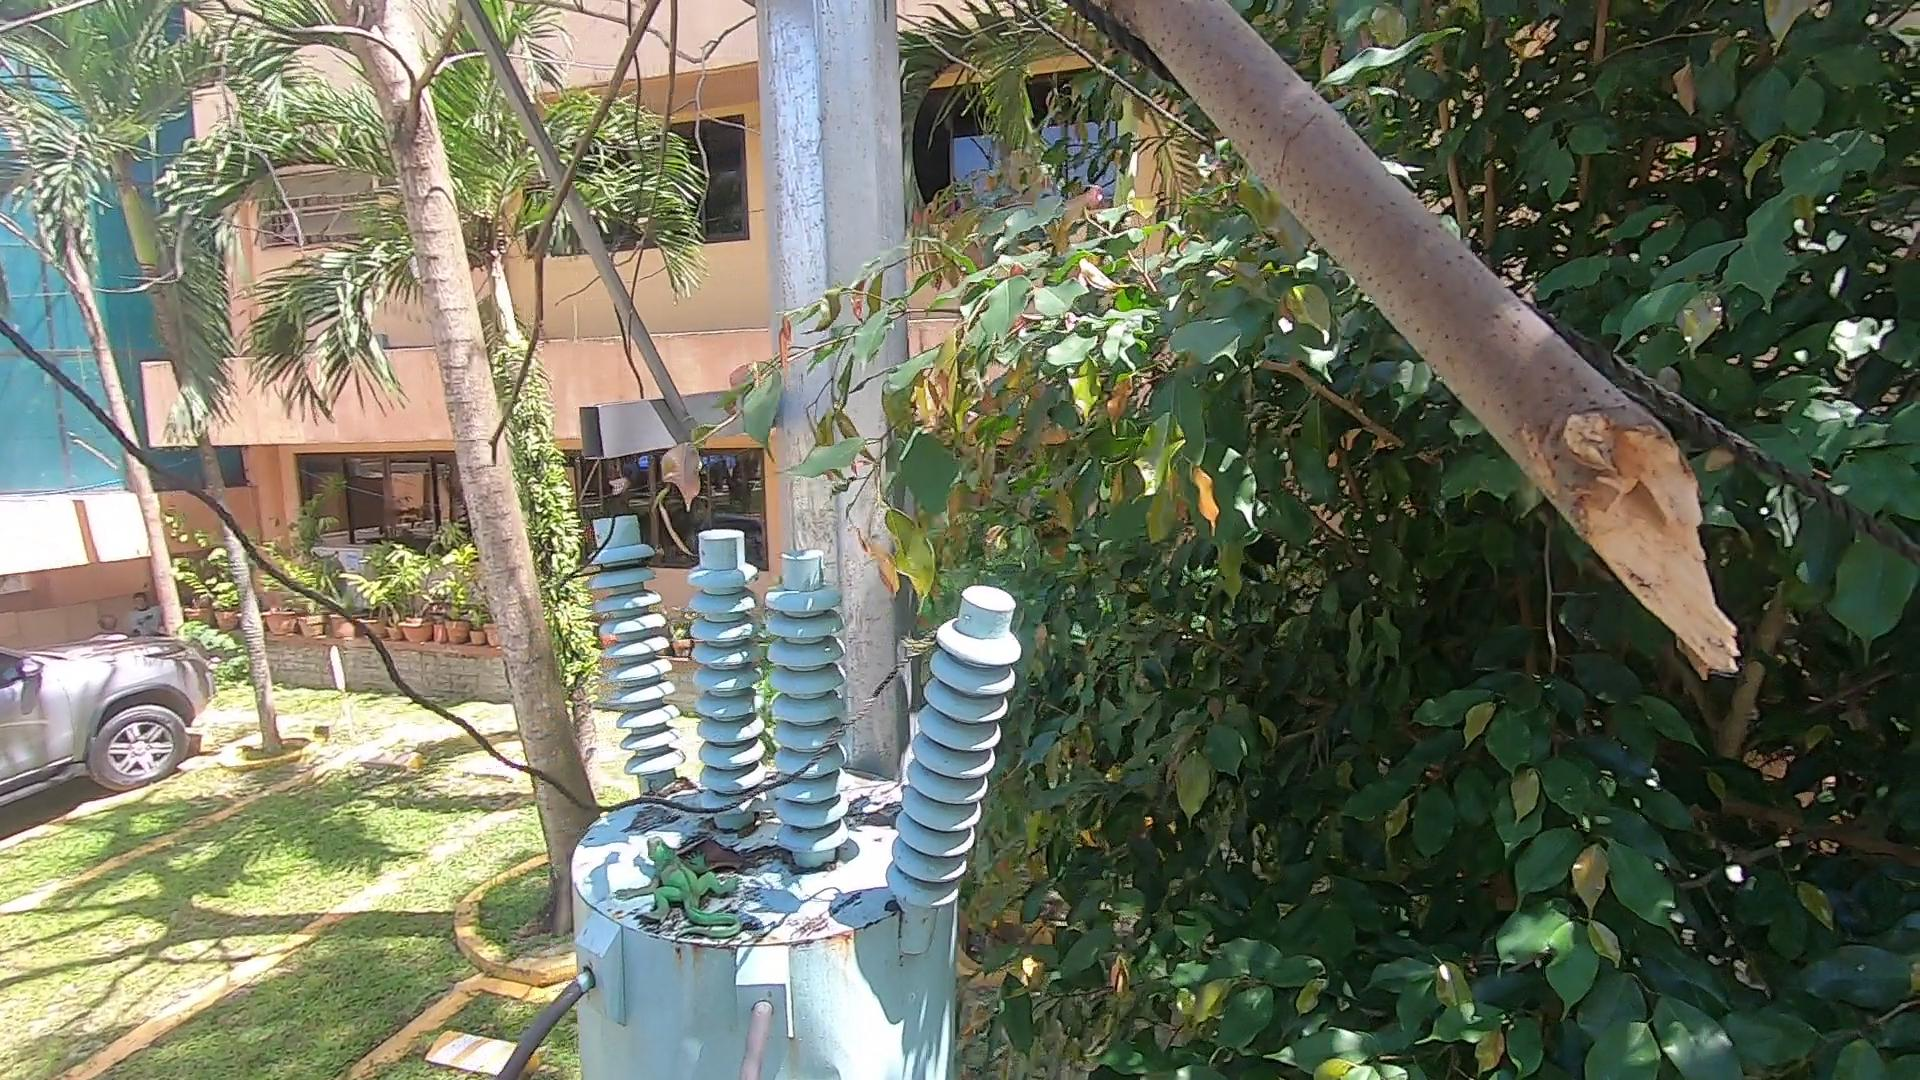branch with leaves: (645, 262, 1006, 589)
leaf: (680, 828, 779, 890), (835, 786, 918, 828), (640, 775, 708, 803)
tree branch: (1065, 11, 1829, 709)
